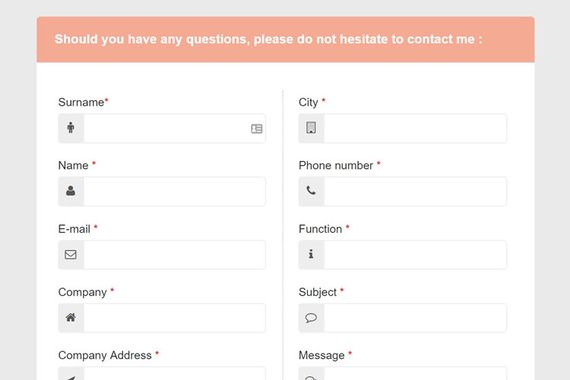_form_: (19, 56, 308, 358), (244, 58, 533, 360)
field: (54, 176, 270, 209), (295, 300, 508, 333), (56, 239, 268, 272), (295, 112, 507, 145), (55, 302, 269, 334), (297, 239, 509, 271), (296, 175, 507, 207), (56, 113, 269, 144)
field_with_label: (52, 160, 271, 210), (293, 97, 509, 147), (54, 223, 269, 273), (53, 287, 271, 336), (54, 97, 271, 146), (295, 224, 511, 272), (294, 160, 508, 208), (293, 287, 510, 334)
